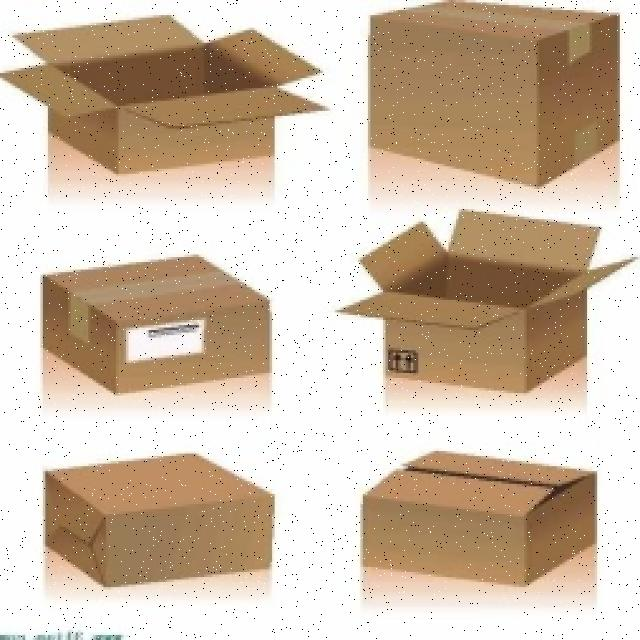box: (0, 5, 318, 184), (342, 196, 622, 399), (353, 6, 618, 178), (320, 451, 613, 598), (17, 234, 277, 398), (2, 445, 286, 592)
